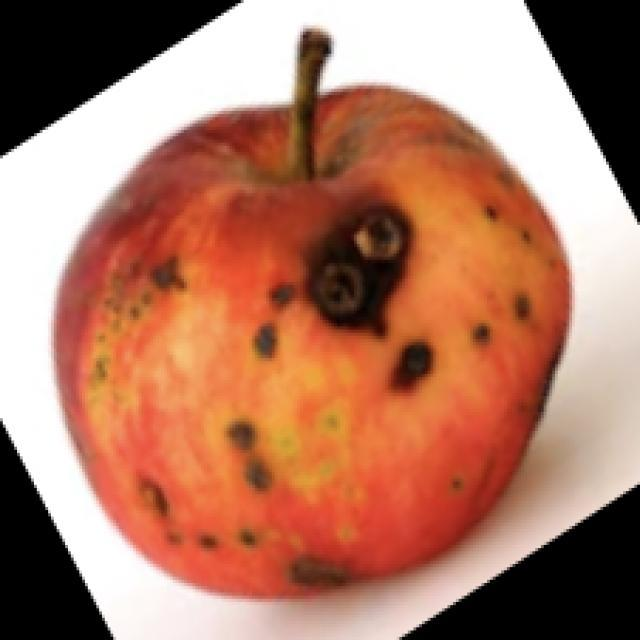Rotten: (72, 89, 573, 594)
